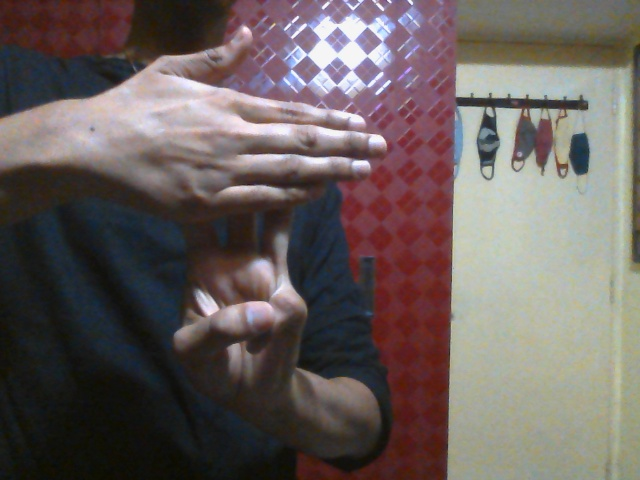M: (119, 24, 387, 401)
